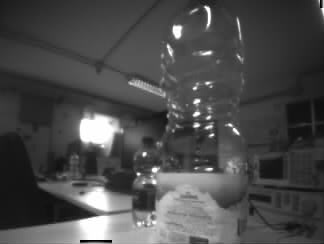Bottle: (156, 2, 245, 243), (132, 137, 156, 226), (70, 152, 80, 180)
